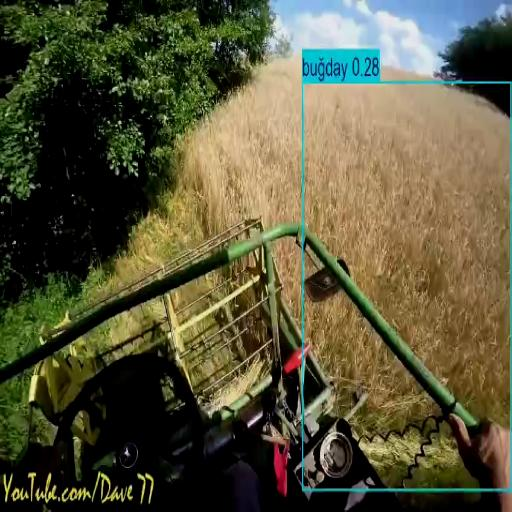bugday: (305, 85, 511, 423), (115, 59, 300, 283), (306, 296, 431, 427)
